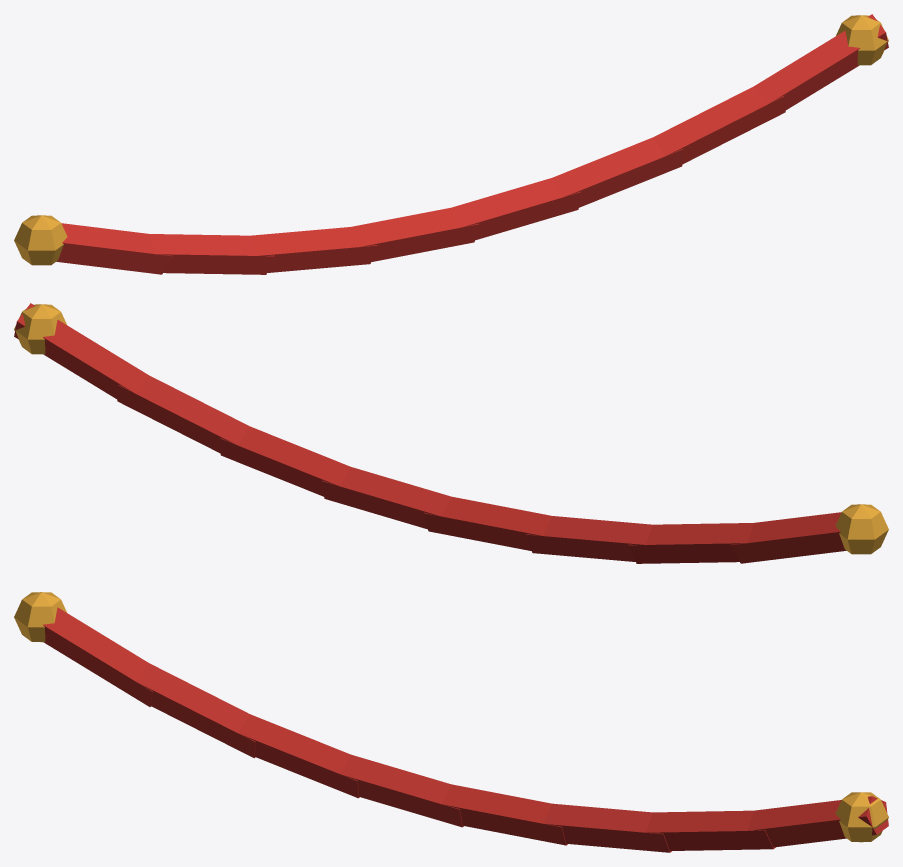
Rendered from stanchion_rope.glb.
3 views of the same model, one above another, from view 1: azimuth 30°, elevation 25°; view 2: azimuth 150°, elevation 25°; view 3: azimuth 330°, elevation 25° (orthographic).
Parts seen in each view (by area): view 1: stanchion_rope; view 2: stanchion_rope; view 3: stanchion_rope.
Part boxes in pixels (x1=…): stanchion_rope: x1=14, y1=14, x2=888, y2=274; stanchion_rope: x1=14, y1=303, x2=888, y2=563; stanchion_rope: x1=14, y1=592, x2=888, y2=852.
Bounding box in the file's own units: 1.26 × 0.1773 × 0.07.
